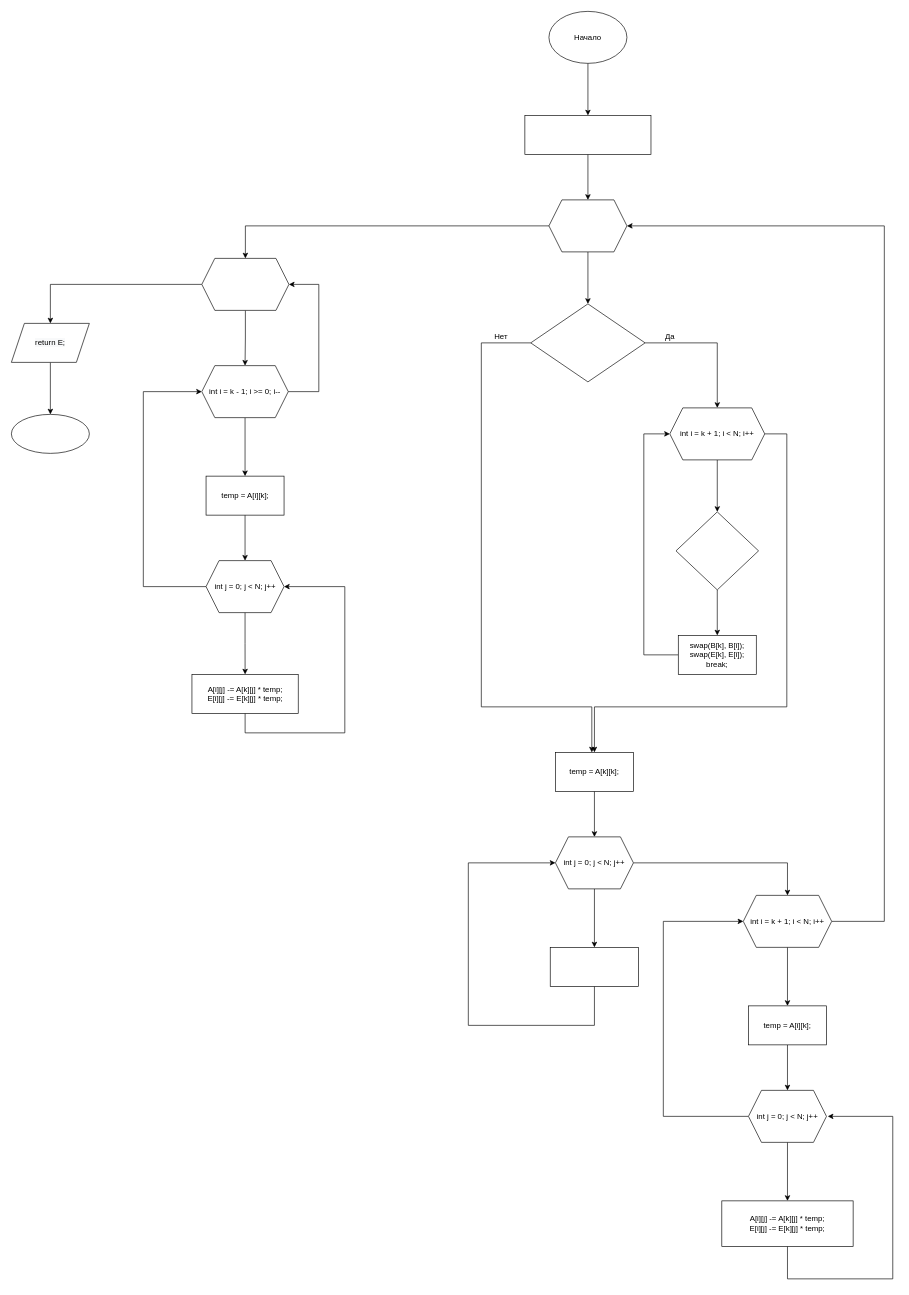
The diagram is 909 pixels wide and 1295 high, and some of its shapes have lost their labels. The centre of each missing label's shape, as x and y in pixels:
A[k][j] /= temp; E[k][j] /= temp;: the point at 594,966
double temp; double** E = CreateMatrix(N); double** B = CloneMatrix(A, N);: the point at 587,134
fabs(B[i][k]) > 1e-8: the point at 717,550
fabs(B[k][k]) < 1e-8: the point at 587,342
int k = 0; k < N; k++: the point at 587,225
int k = N - 1; k > 0; k--: the point at 245,284
Конец: the point at 50,433
